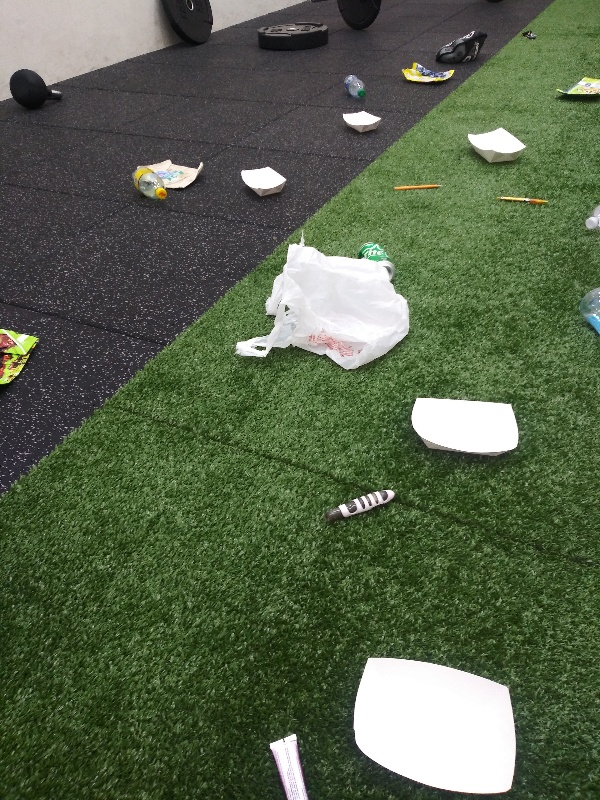bag: (1, 321, 40, 391), (148, 155, 207, 193), (400, 61, 459, 88), (551, 74, 600, 101)
bottle: (128, 163, 167, 206), (576, 282, 600, 341), (340, 72, 371, 103), (584, 198, 600, 236)
can: (357, 237, 399, 279)
plate: (349, 655, 522, 797), (407, 395, 524, 460), (463, 125, 529, 166), (240, 163, 289, 202), (338, 107, 386, 135)
